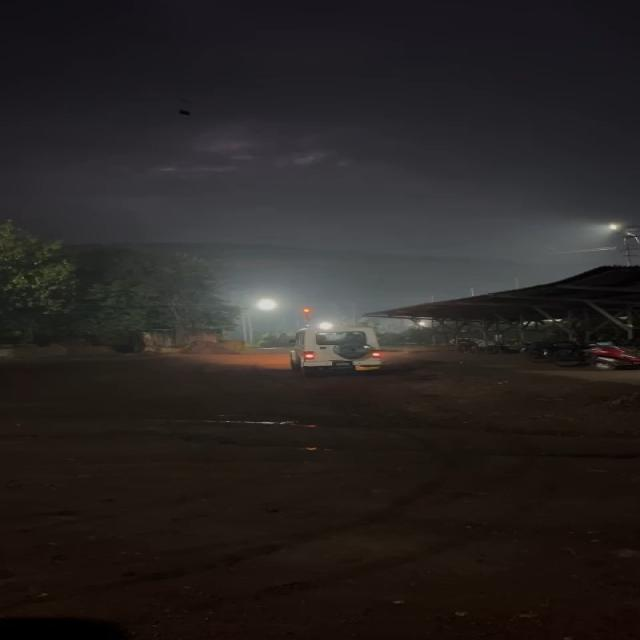light_vehicle: (294, 320, 387, 372)
